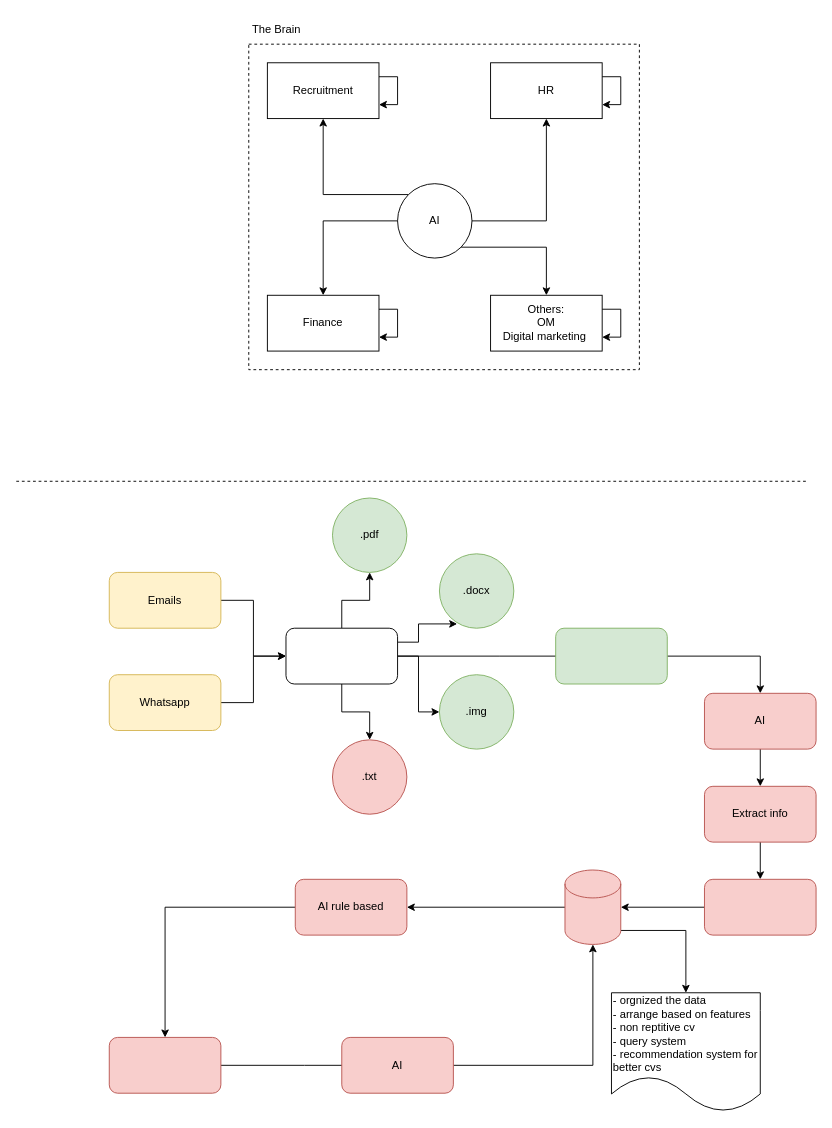
This 832x1128 diagram has some shape labels left out. The shapes that lost their labels are listed below. From the top down, each one's centre as x and y in pixels, then its label:
At (341,655): "resume".
At (611,655): "Extract text".
At (592,906): "Database".
At (760,906): "Export to excel".
At (164,1064): "UI".
